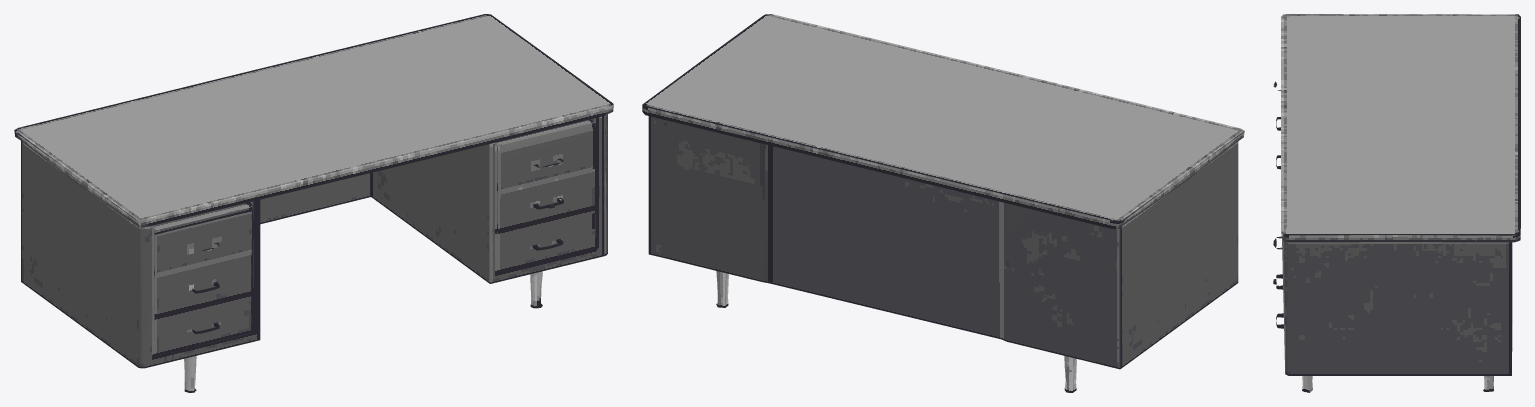
The model's file is metal_office_desk.glb.
3 renders of one model, left to right at view 1: azimuth 30°, elevation 25°; view 2: azimuth 150°, elevation 25°; view 3: azimuth 270°, elevation 25°, orthographic. The views are drawn at different scales.
Parts seen in each view (by area): view 1: mesh; view 2: mesh; view 3: mesh.
Boxes of the visible parts, x1,y1,x2,y2 form: mesh: (14, 14, 613, 392); mesh: (642, 14, 1244, 392); mesh: (1273, 14, 1520, 392).
Bounding box in the file's own units: 2 × 0.7875 × 0.9476.
1 material, 1 textured.
